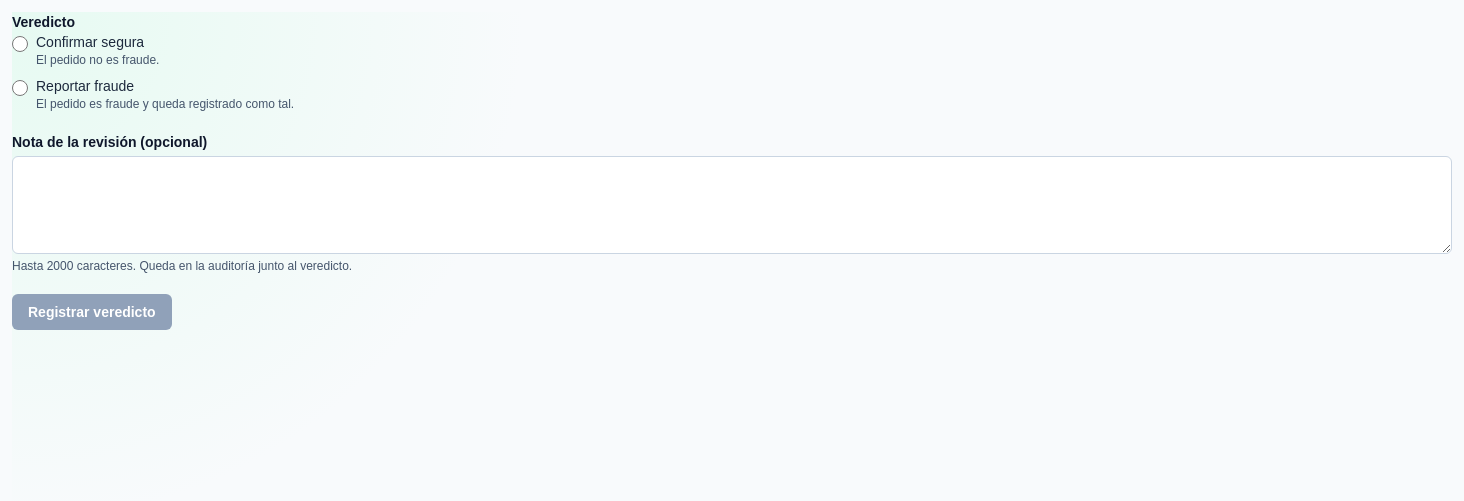
Test: formulario de revisión › manda el id de la alerta en el formulario, no como prop de servidor
Click the radio button labelled "Confirmar segura El pedido no es fraude." at (20, 44), box [12,36,28,52]
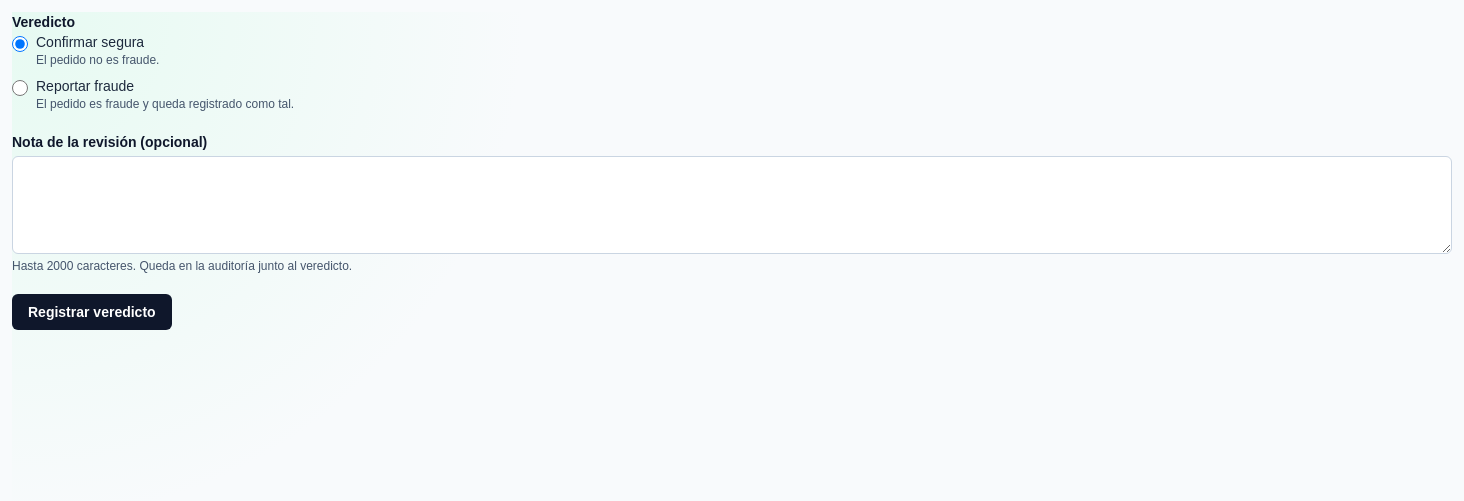
Submit the form named "Registrar veredicto"
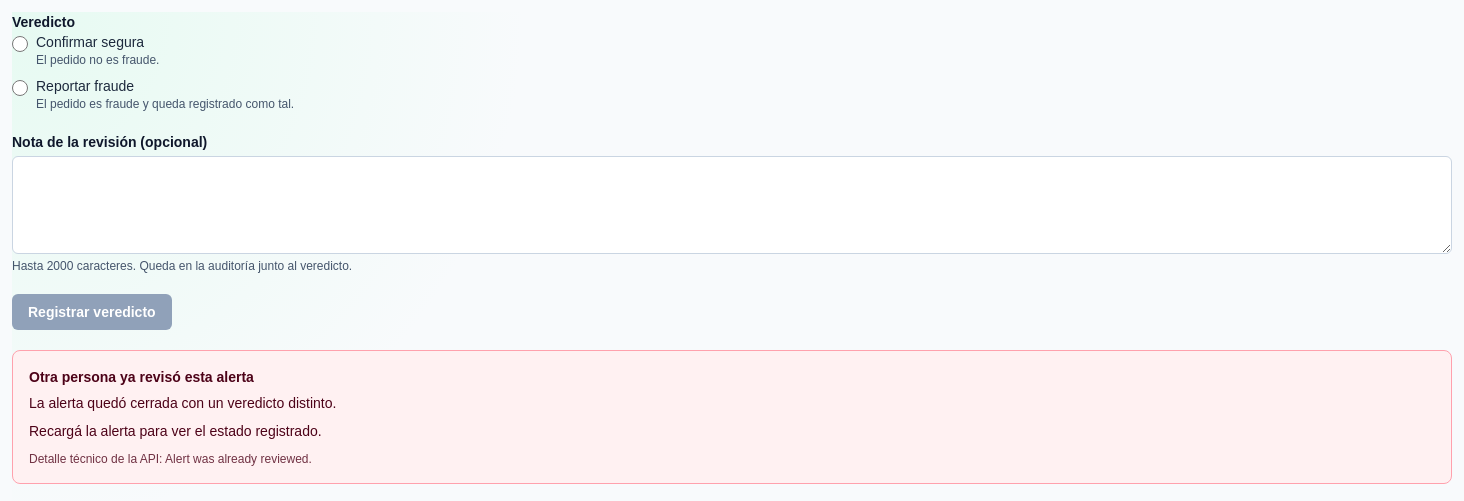
Now the message is shown, box [12,350,1452,484]
